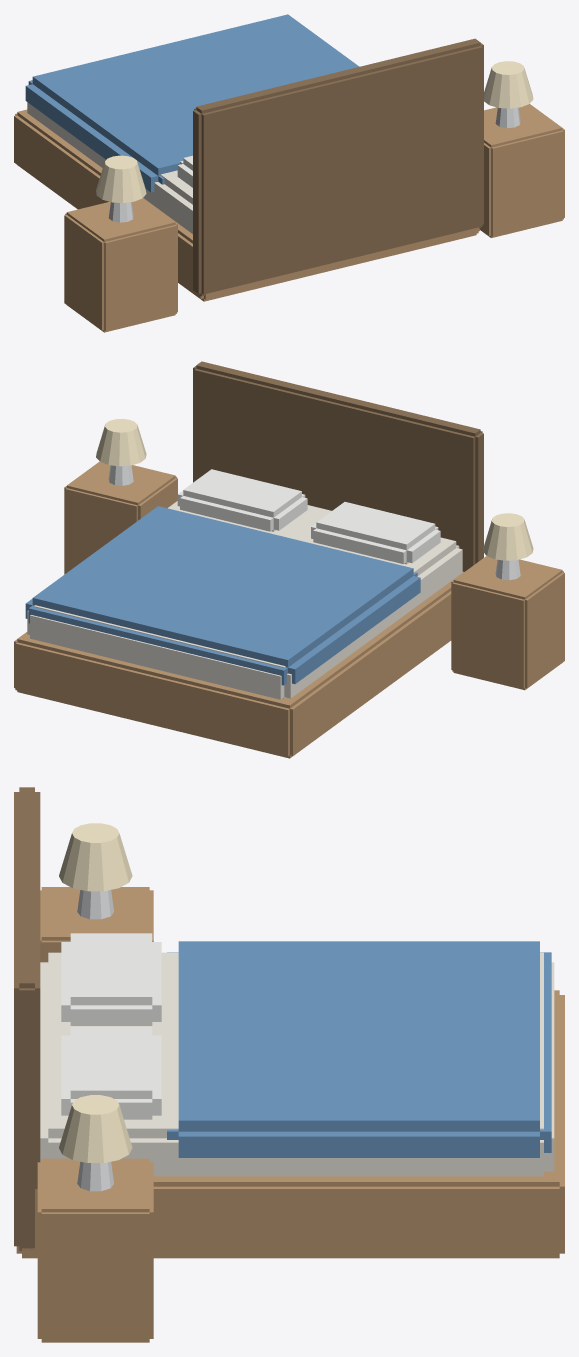
File: Interior_BedroomSet.fbx
3 views of the same model, one above another, from view 1: azimuth 30°, elevation 25°; view 2: azimuth 150°, elevation 25°; view 3: azimuth 270°, elevation 25° (orthographic). The views are drawn at different scales.
Visible parts, largest first — view 1: Interior_BedroomSet; view 2: Interior_BedroomSet; view 3: Interior_BedroomSet.
Boxes of the visible parts, <box> form: Interior_BedroomSet: <box>14,14,564,332</box>; Interior_BedroomSet: <box>14,361,564,758</box>; Interior_BedroomSet: <box>14,787,564,1342</box>.
Size of the model in its own units: 2.92 by 1.24 by 2.09.
